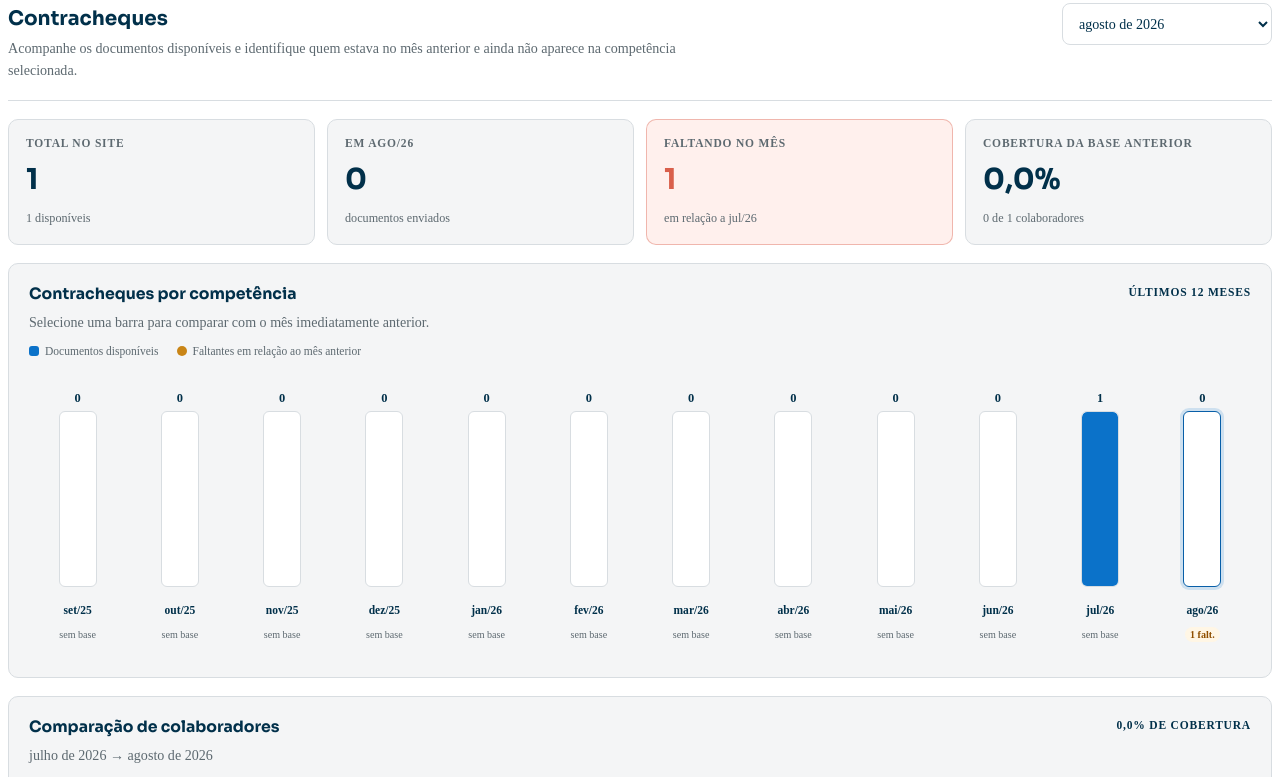
Test: PaycheckDashboard › troca a competência pela barra mensal e explicita quando não há base
Click the button with aria-label "julho de 2026: 1 contracheques; sem base no mês anterior" at (1100, 515), box [1054,380,1147,649]
(page scrolled)
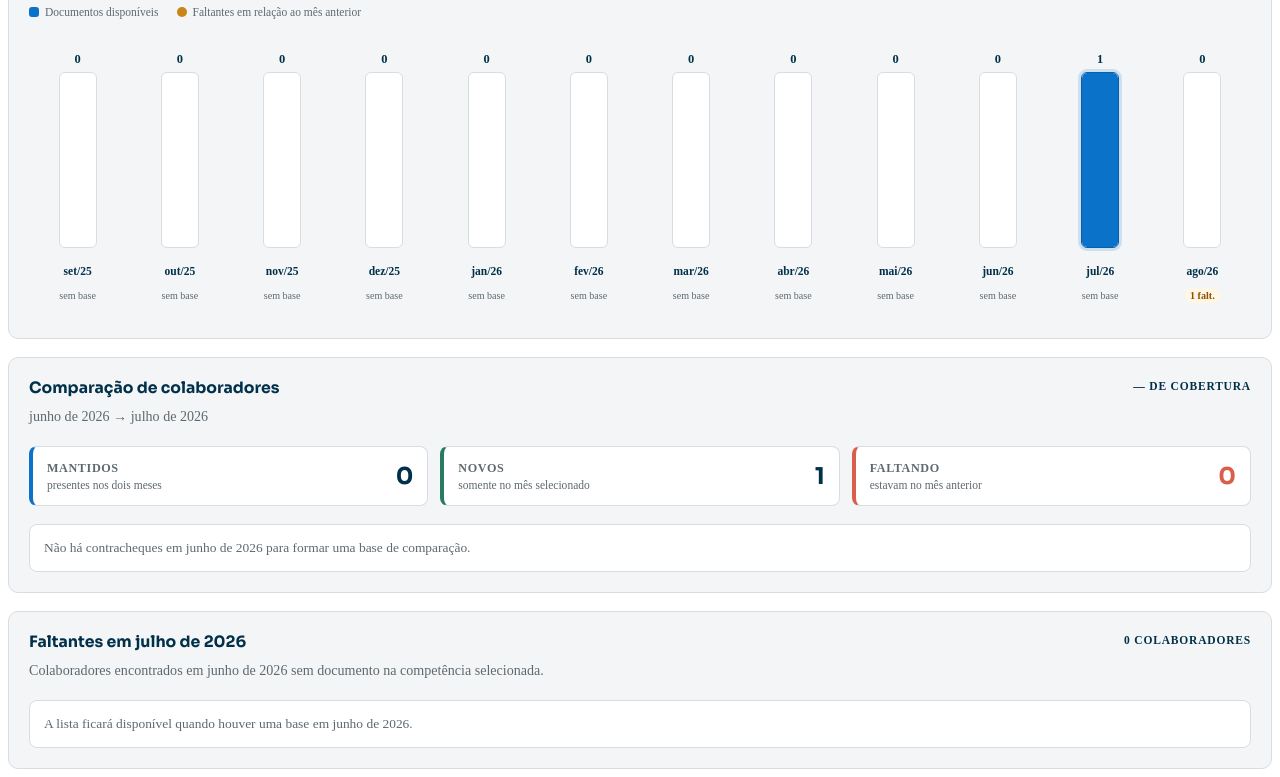
Check: the text "Não há contracheques em junho de 2026 para formar uma base" is shown, box [29,524,1251,572]
